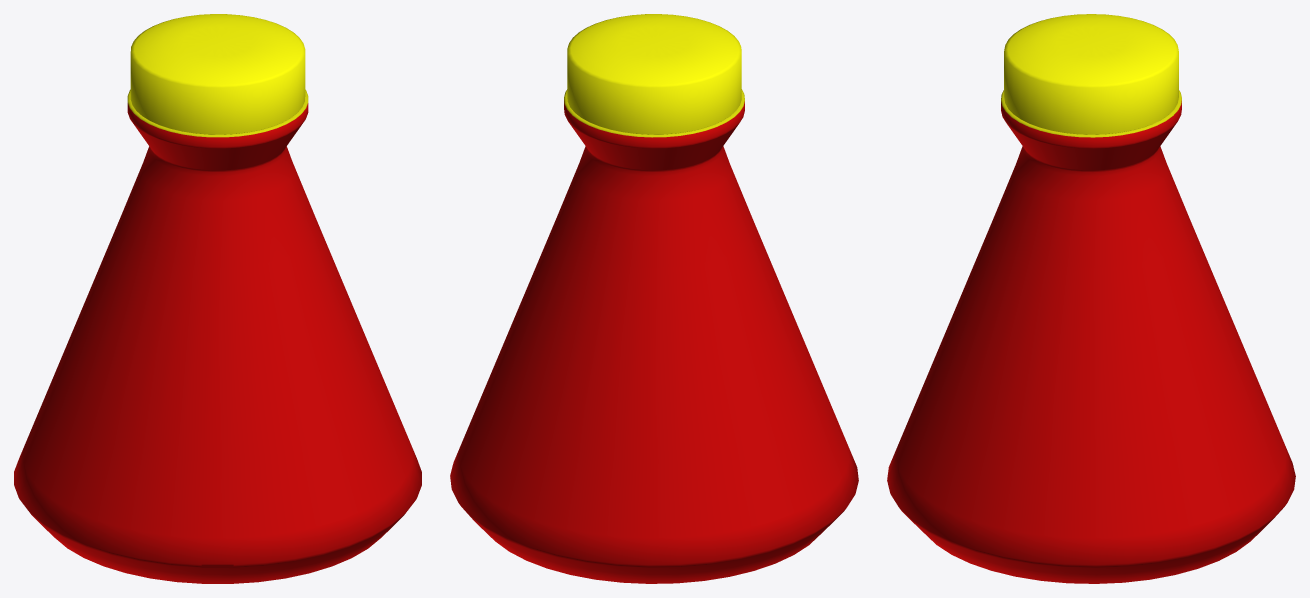
The model's file is Cone_Lab_Jar.fbx.
3 renders of one model, left to right at view 1: azimuth 30°, elevation 25°; view 2: azimuth 150°, elevation 25°; view 3: azimuth 270°, elevation 25°, orthographic.
Parts seen in each view (by area): view 1: Cone_Lab_Jar; view 2: Cone_Lab_Jar; view 3: Cone_Lab_Jar.
Part boxes in pixels (x1,y1,x2,y2): Cone_Lab_Jar: (14,14,421,583); Cone_Lab_Jar: (450,14,858,583); Cone_Lab_Jar: (887,14,1295,583).
Size of the model in its own units: 21.02 by 26.55 by 21.02.
